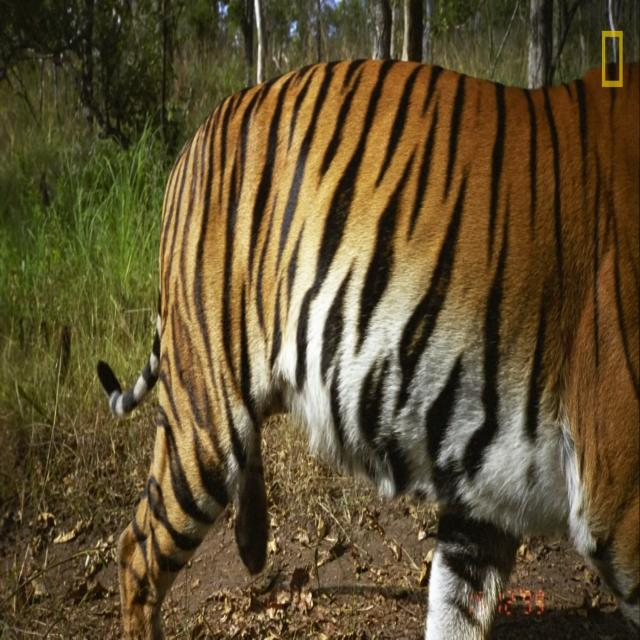TIGER: (108, 77, 596, 634)
